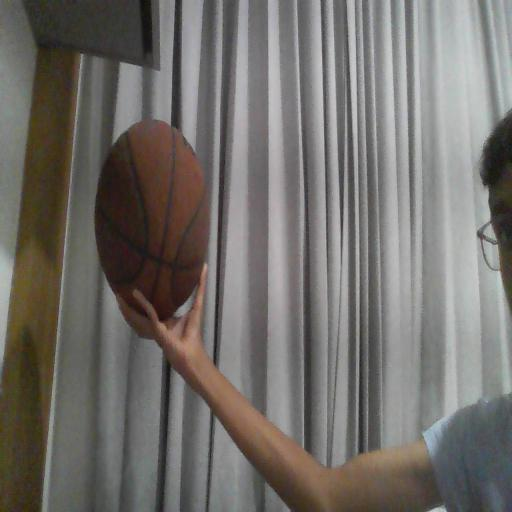basketball: (95, 121, 209, 319)
